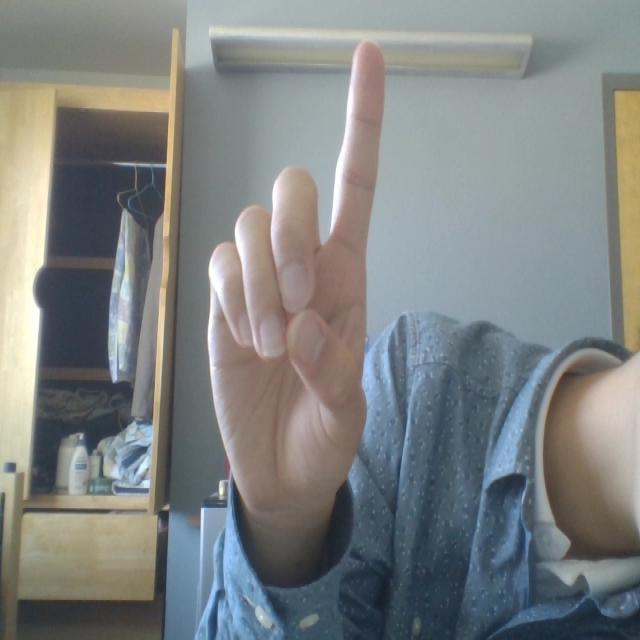D: (170, 15, 437, 552)
